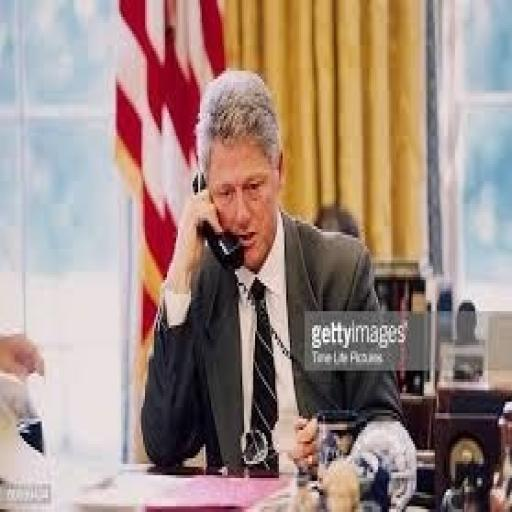calling: (138, 65, 416, 498)
